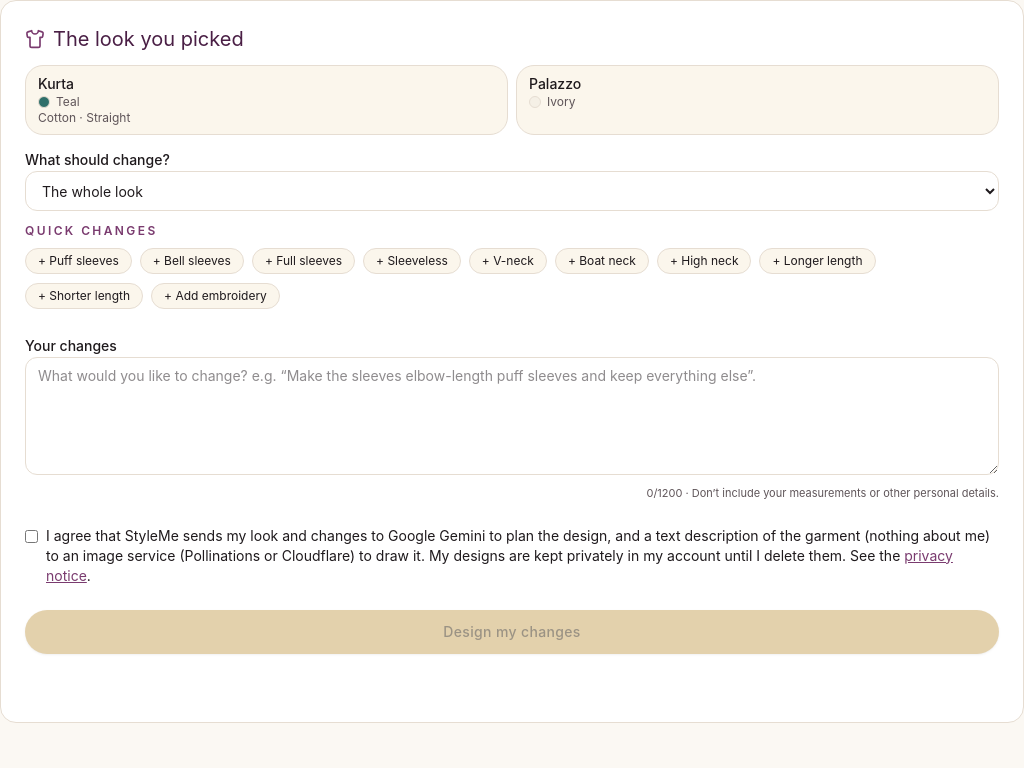
DesignStudioForm › shows the API’s message when the design can’t be made, and stays on the page
In the text box labelled "Your changes": (512, 416) x1=25 y1=357 x2=999 y2=475, type "Shorter"
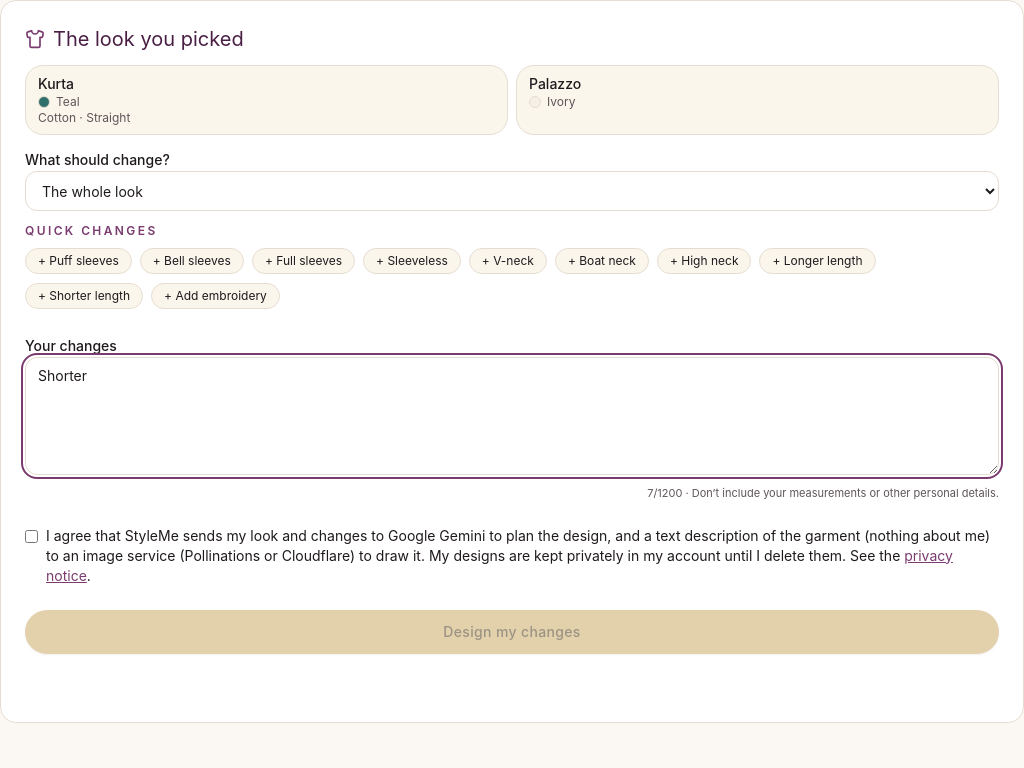
Click the checkbox: (32, 536) x1=25 y1=530 x2=38 y2=542
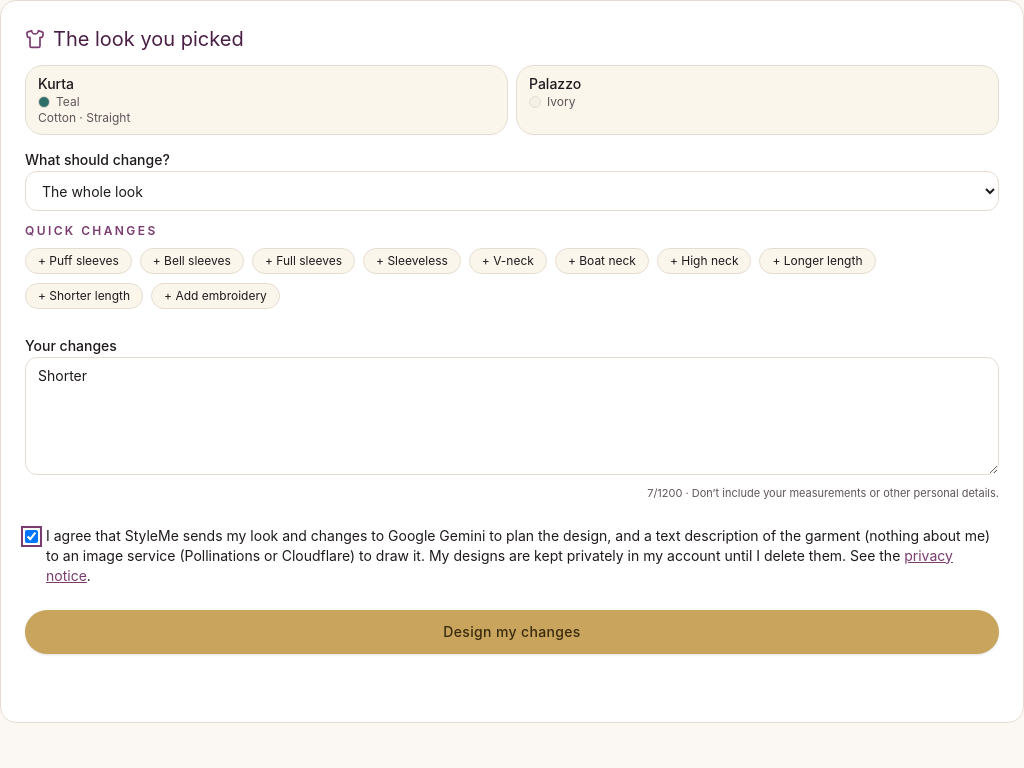
Click the button "Design my changes": (512, 632) x1=25 y1=610 x2=999 y2=654
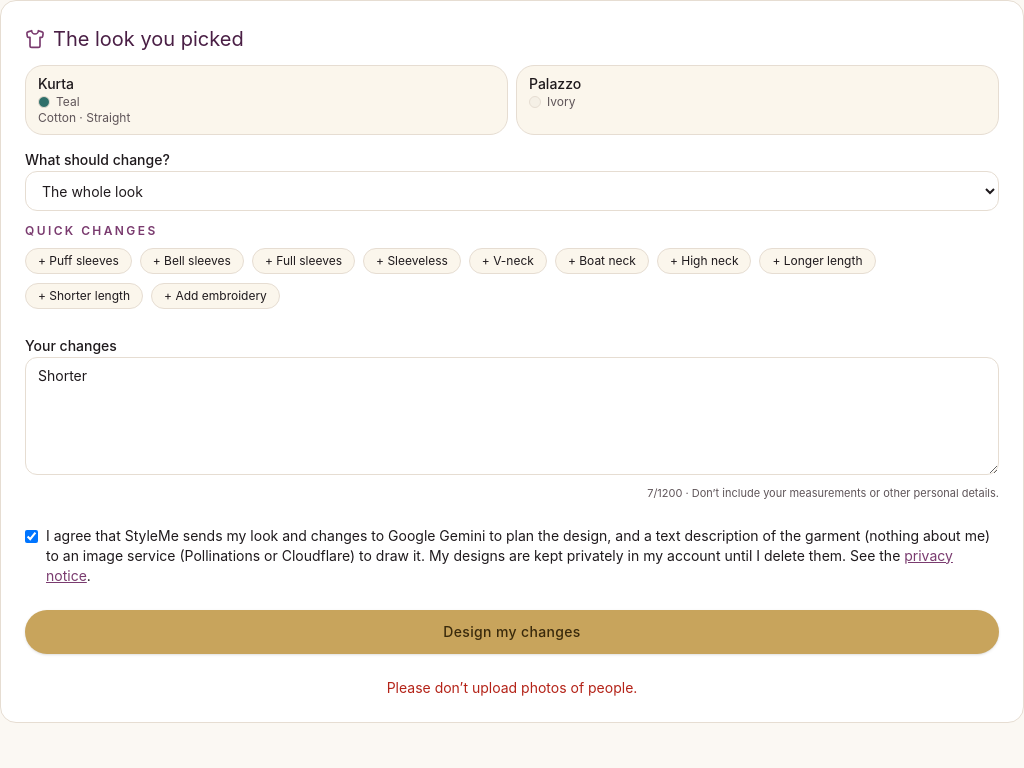
Check: the text "Please don’t upload photos of people." is shown, box x1=387 y1=678 x2=637 y2=696
